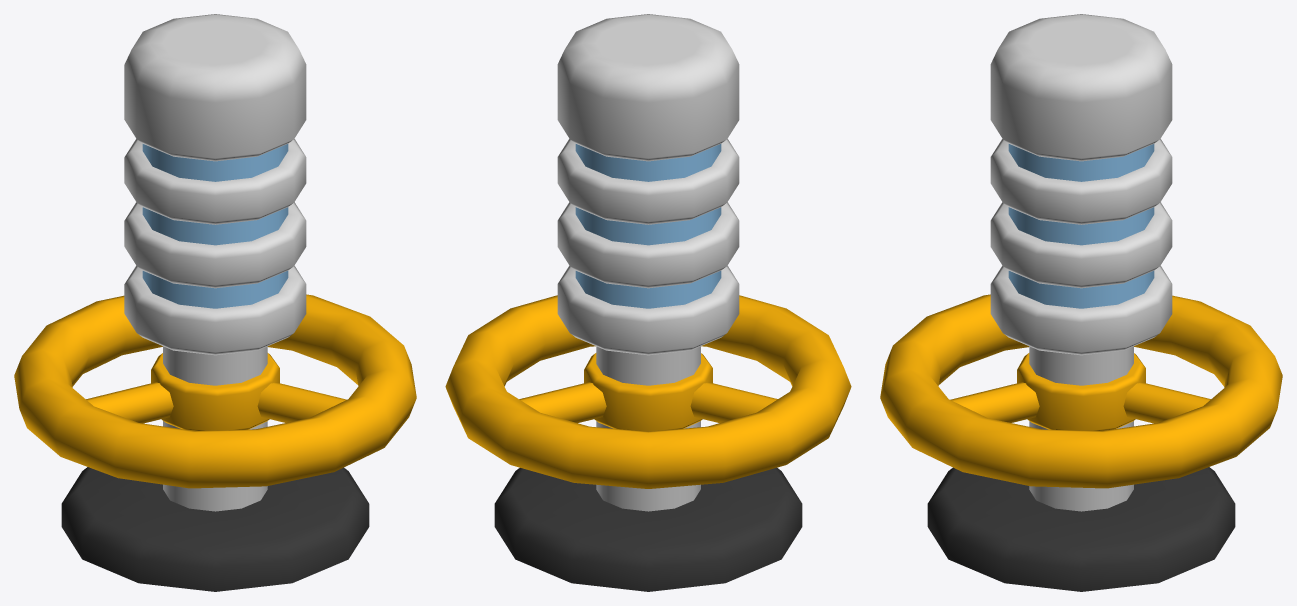
Rendered from obstacle_9_001.fbx.
3 views of the same model, side by side, from view 1: azimuth 30°, elevation 25°; view 2: azimuth 150°, elevation 25°; view 3: azimuth 270°, elevation 25° (orthographic).
Parts seen in each view (by area): view 1: obstacle_9_001; view 2: obstacle_9_001; view 3: obstacle_9_001.
Part boxes in pixels (bbox=[...]): obstacle_9_001: bbox=[14, 14, 416, 591]; obstacle_9_001: bbox=[445, 14, 851, 591]; obstacle_9_001: bbox=[880, 14, 1282, 591].
Size of the model in its own units: 151 by 151 by 200.
